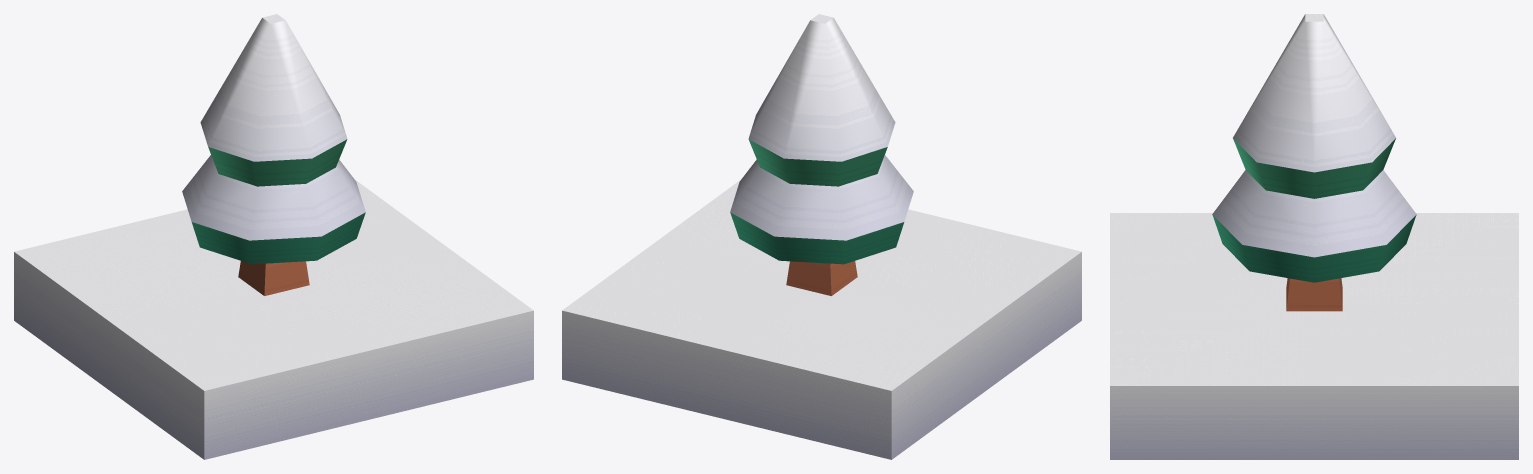
Rendered from snow-tile-tree.glb.
The picture shows the model from 3 angles, left to right: view 1: azimuth 30°, elevation 25°; view 2: azimuth 150°, elevation 25°; view 3: azimuth 270°, elevation 25°; orthographic projection. The views are drawn at different scales.
Visible parts, largest first — view 1: snow-tile-tree; view 2: snow-tile-tree; view 3: snow-tile-tree.
Boxes of the visible parts, bbox=[...] form: snow-tile-tree: bbox=[14, 14, 533, 459]; snow-tile-tree: bbox=[562, 14, 1081, 459]; snow-tile-tree: bbox=[1110, 14, 1518, 459].
Size of the model in its own units: 3 by 2.88 by 3.
Materials: 1 (1 with a texture image).
